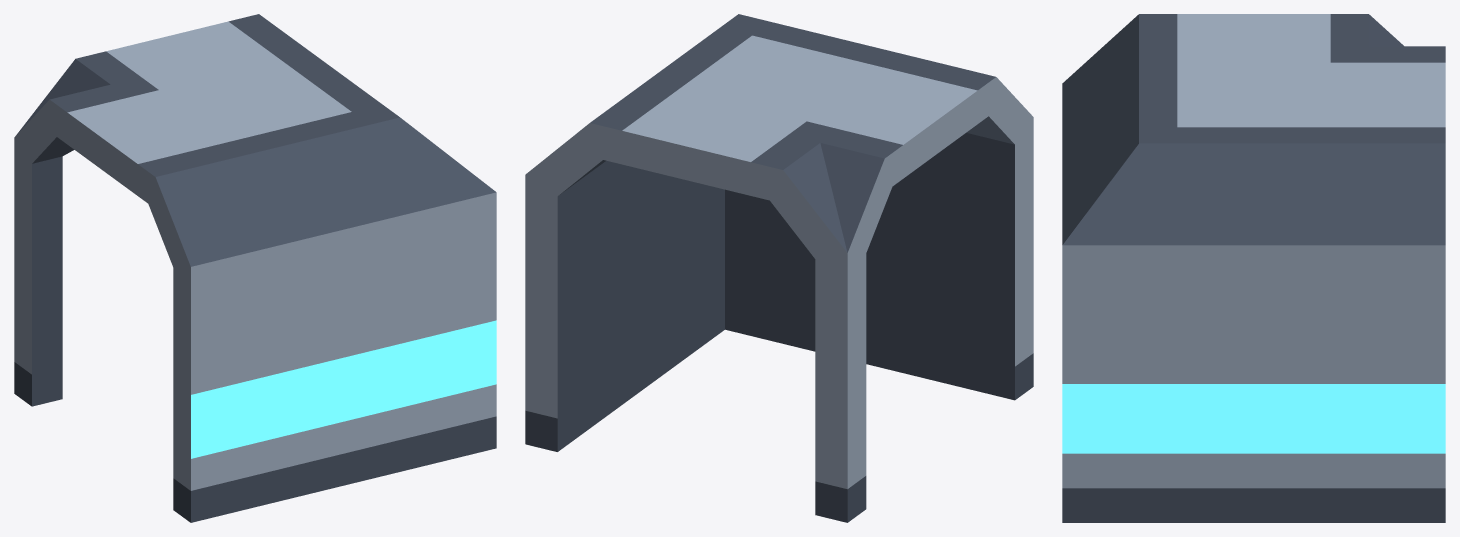
File: corridor_corner.glb
3 renders of one model, left to right at view 1: azimuth 30°, elevation 25°; view 2: azimuth 150°, elevation 25°; view 3: azimuth 270°, elevation 25°, orthographic. The views are drawn at different scales.
Parts seen in each view (by area): view 1: corridor_corner; view 2: corridor_corner; view 3: corridor_corner.
Boxes of the visible parts, <box> form: corridor_corner: <box>14,14,496,522</box>; corridor_corner: <box>525,14,1033,522</box>; corridor_corner: <box>1062,14,1445,522</box>.
Size of the model in its own units: 1 by 1 by 1.
